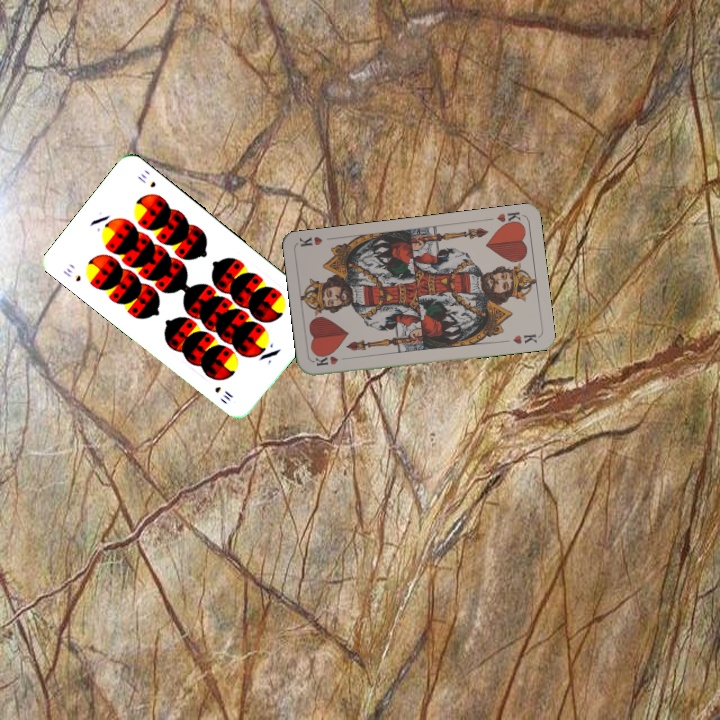HK: (493, 208, 525, 229), (311, 352, 352, 368)
S10: (59, 263, 84, 284)
